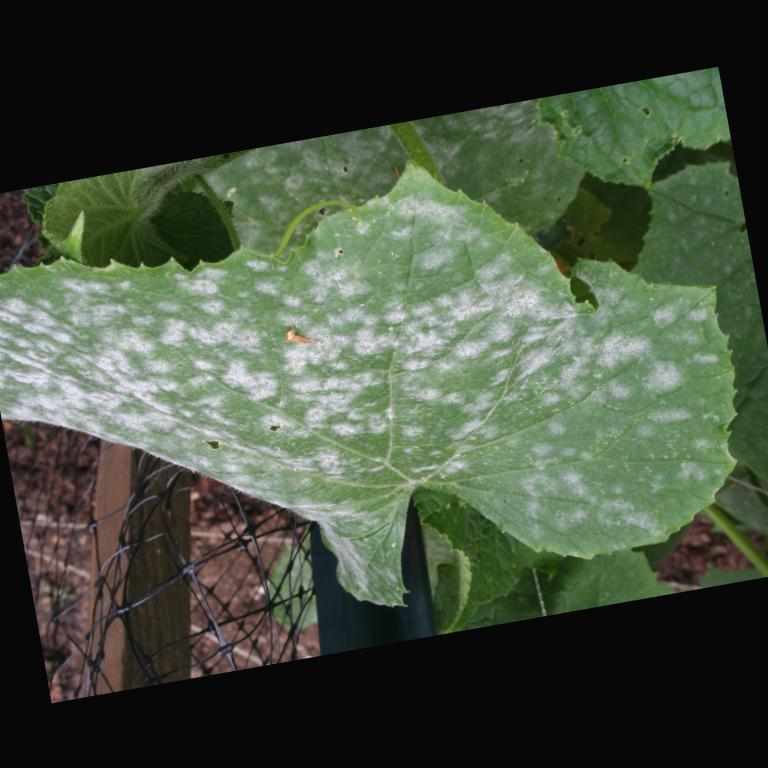powdery-mildew: (319, 213, 553, 417), (0, 256, 234, 416)
